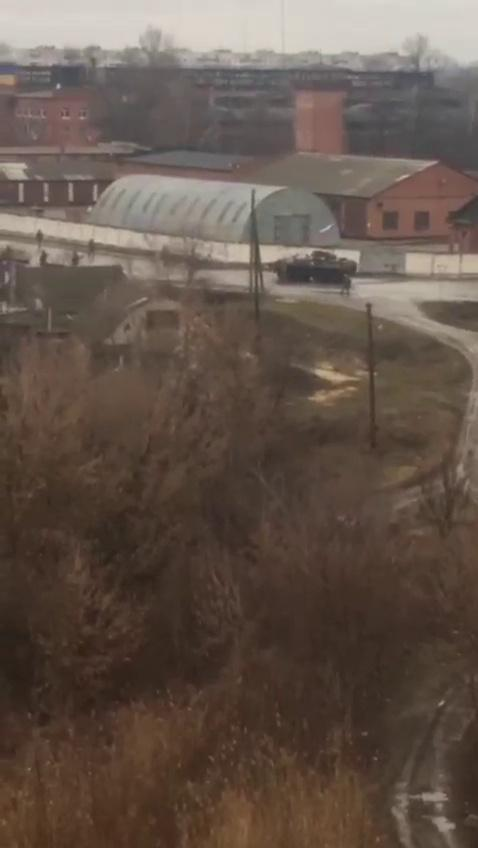person: (339, 274, 352, 294), (86, 237, 96, 260), (34, 227, 44, 250), (68, 251, 81, 268), (38, 250, 48, 270)
tank: (268, 250, 358, 284)
